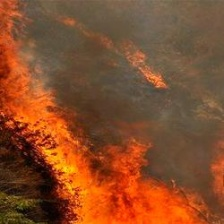fire: (1, 4, 201, 224)
